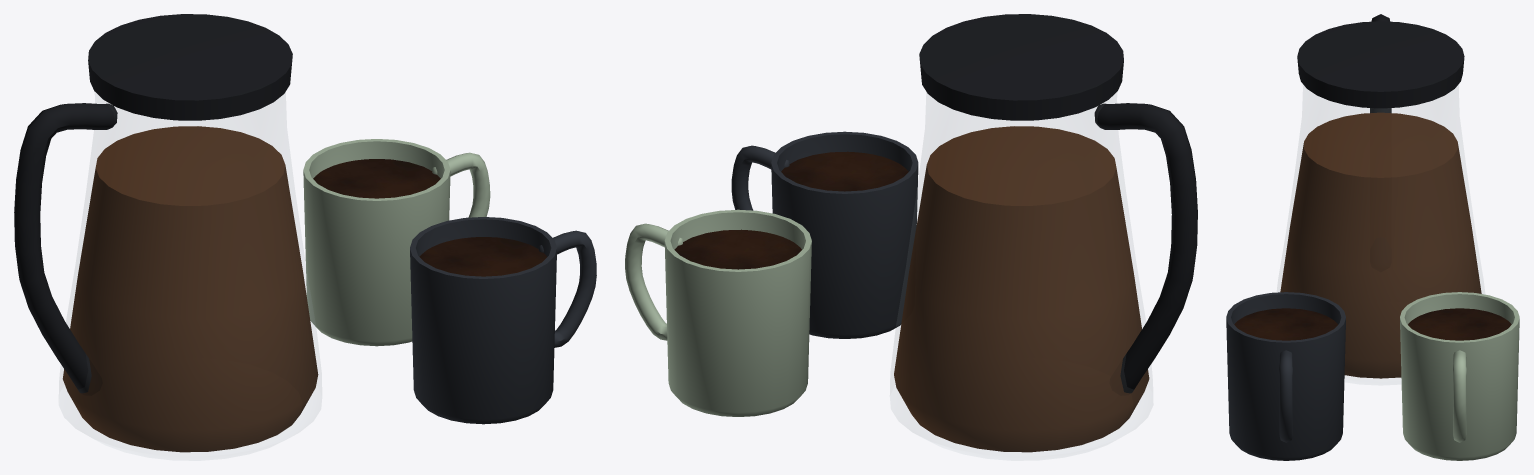
File: drink_coffee_pot_and_mugs.glb
The picture shows the model from 3 angles, left to right: view 1: azimuth 30°, elevation 25°; view 2: azimuth 150°, elevation 25°; view 3: azimuth 270°, elevation 25°; orthographic projection. The views are drawn at different scales.
Visible parts, largest first — view 1: drink_coffee_pot_and_mugs; view 2: drink_coffee_pot_and_mugs; view 3: drink_coffee_pot_and_mugs.
Part boxes in pixels (x1,y1,x2,y2): drink_coffee_pot_and_mugs: (14, 14, 596, 460); drink_coffee_pot_and_mugs: (625, 14, 1197, 460); drink_coffee_pot_and_mugs: (1226, 14, 1519, 460).
Bounding box in the file's own units: 0.3117 × 0.2052 × 0.186.
Materials: 6 (1 with a texture image).
